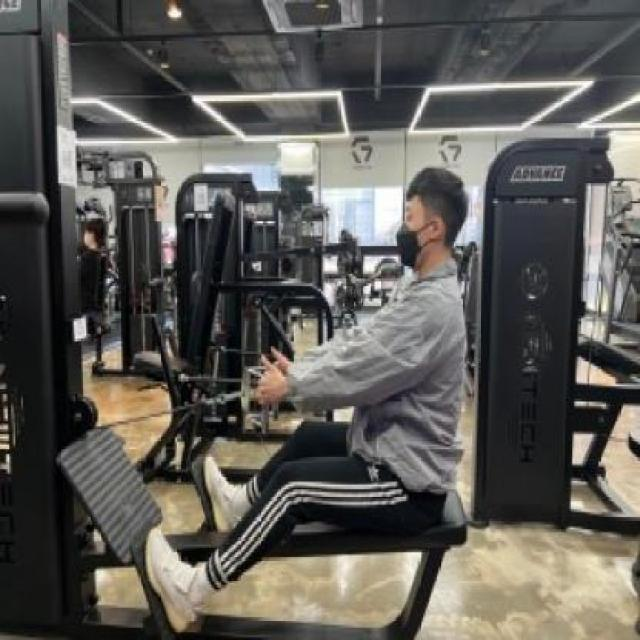Seated Cable Rows: (8, 0, 483, 640)
